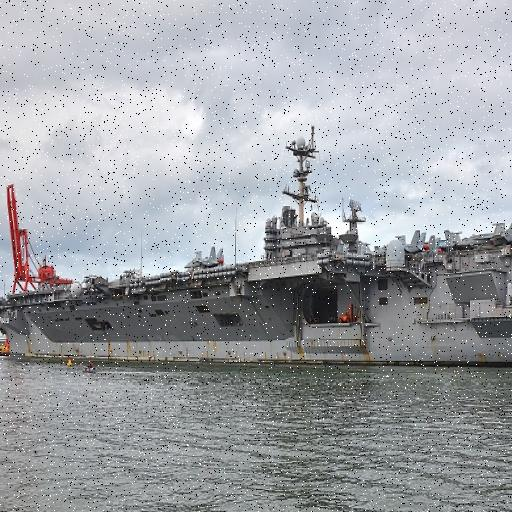Portanaves: (1, 123, 512, 374)
